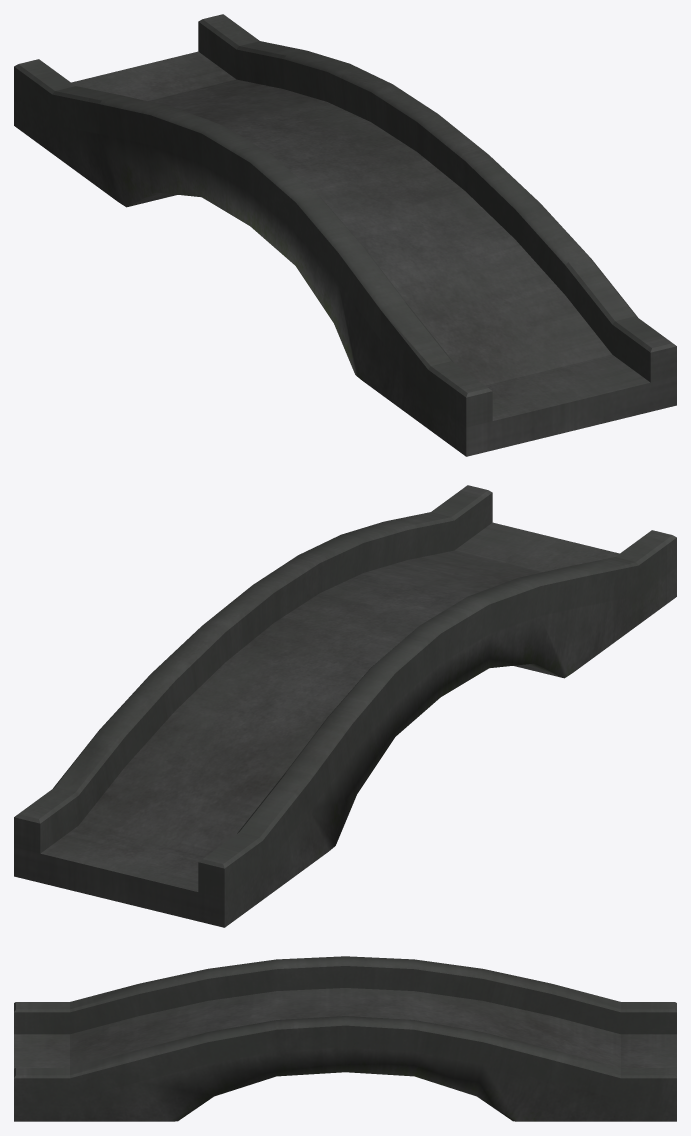
The model's file is big_stone_bridge.glb.
3 renders of one model, top to bottom at view 1: azimuth 30°, elevation 25°; view 2: azimuth 150°, elevation 25°; view 3: azimuth 270°, elevation 25°, orthographic. The views are drawn at different scales.
Parts seen in each view (by area): view 1: BigStoneBridge; view 2: BigStoneBridge; view 3: BigStoneBridge.
Part boxes in pixels (bbox=[...]): BigStoneBridge: bbox=[14, 14, 676, 456]; BigStoneBridge: bbox=[14, 485, 676, 927]; BigStoneBridge: bbox=[14, 956, 676, 1121].
Size of the model in its own units: 7.53 by 4.41 by 28.
1 material, 1 textured.
